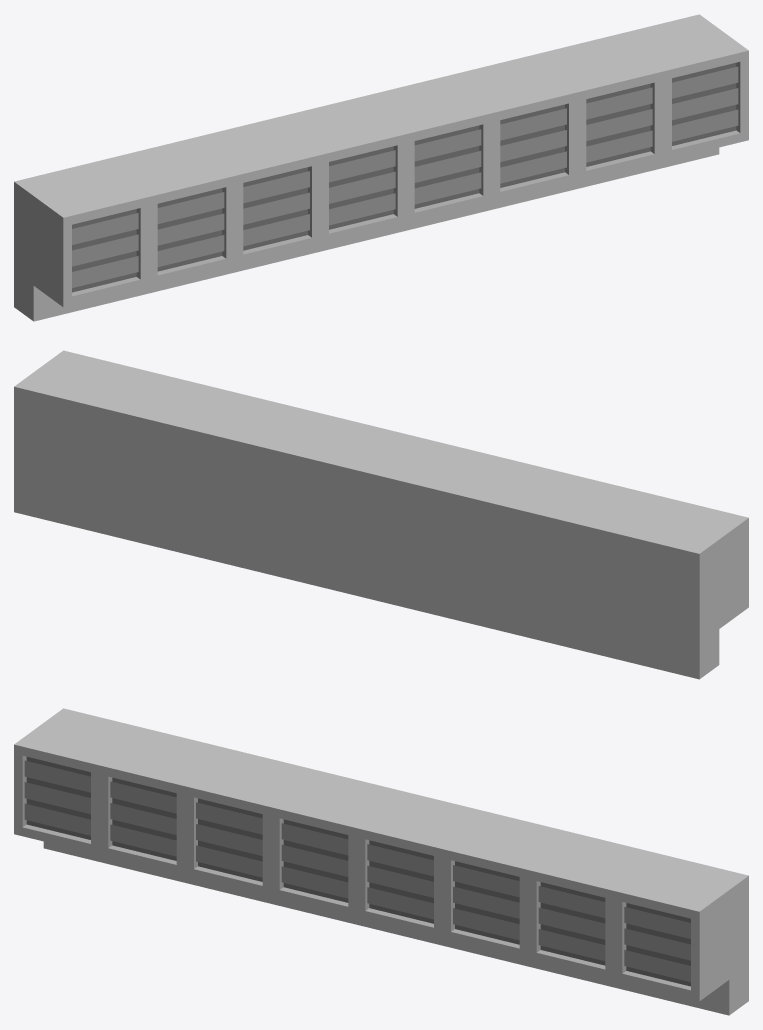
Rendered from AirCurtain.fbx.
3 views of the same model, one above another, from view 1: azimuth 30°, elevation 25°; view 2: azimuth 150°, elevation 25°; view 3: azimuth 330°, elevation 25° (orthographic).
Visible parts, largest first — view 1: AirCurtain; view 2: AirCurtain; view 3: AirCurtain.
Part boxes in pixels (x1,y1,x2,y2): AirCurtain: (14, 14, 748, 321); AirCurtain: (14, 350, 748, 679); AirCurtain: (14, 708, 748, 1015).
Size of the model in its own units: 2 by 0.35 by 0.25.
